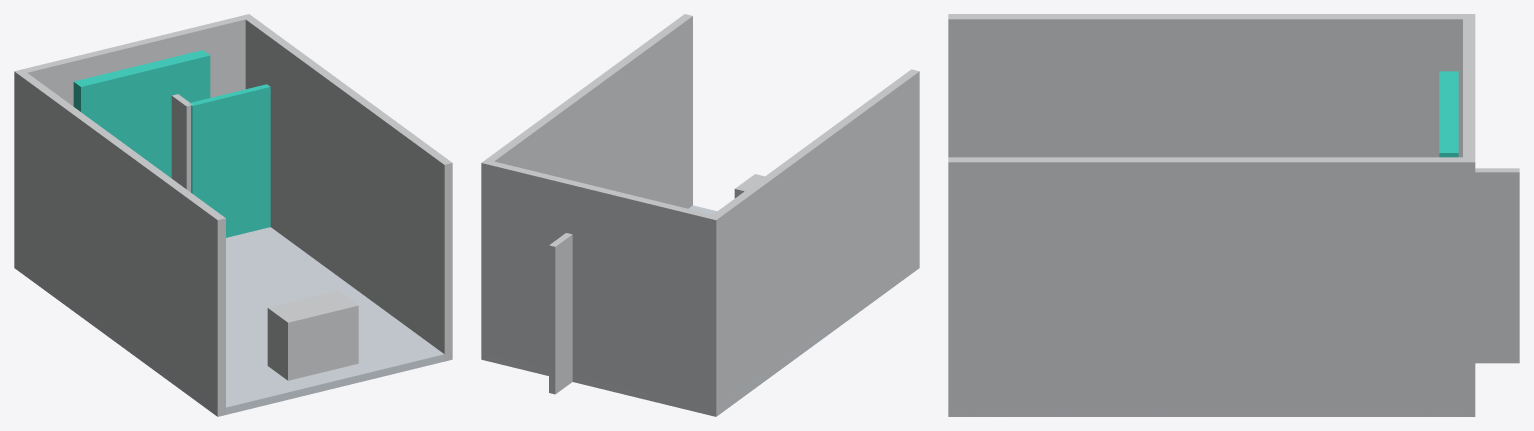
3 views of the same model, side by side, from view 1: azimuth 30°, elevation 25°; view 2: azimuth 150°, elevation 25°; view 3: azimuth 270°, elevation 25° (orthographic). The views are drawn at different scales.
Parts seen in each view (by area): view 1: Exhibition Booth Concept; view 2: Exhibition Booth Concept; view 3: Exhibition Booth Concept.
Part boxes in pixels (left/top/right/bottom): Exhibition Booth Concept: left=14, top=14, right=452, bottom=416; Exhibition Booth Concept: left=481, top=14, right=919, bottom=416; Exhibition Booth Concept: left=948, top=14, right=1519, bottom=416.
Size of the model in its own units: 4 by 3.2 by 6.51.
